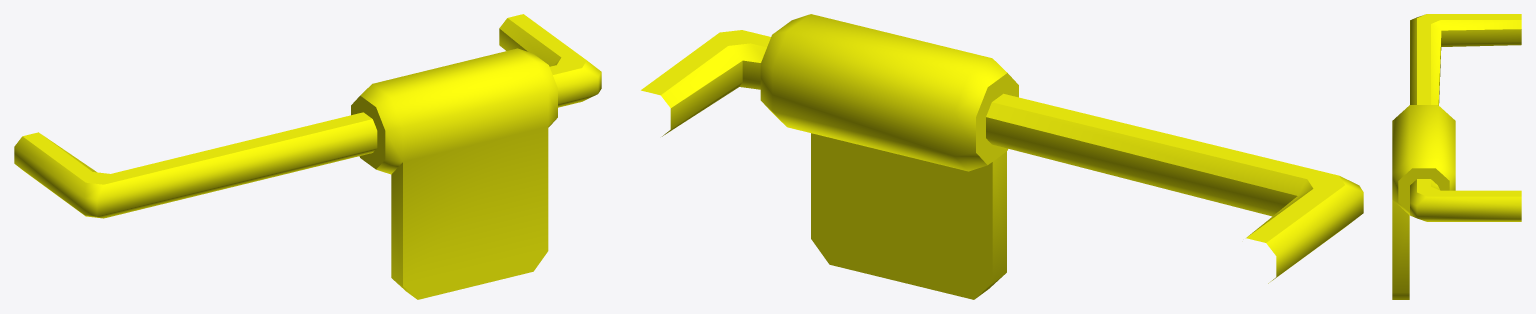
The model's file is towelrail.gltf.
The picture shows the model from 3 angles, left to right: view 1: azimuth 30°, elevation 25°; view 2: azimuth 150°, elevation 25°; view 3: azimuth 270°, elevation 25°; orthographic projection. The views are drawn at different scales.
Parts seen in each view (by area): view 1: towelrail; view 2: towelrail; view 3: towelrail.
Part boxes in pixels (left/top/right/bottom): towelrail: left=14, top=14, right=601, bottom=299; towelrail: left=641, top=14, right=1363, bottom=299; towelrail: left=1392, top=14, right=1521, bottom=299.
Bounding box in the file's own units: 1.6 × 0.5829 × 0.4634.
1 material, 1 textured.
